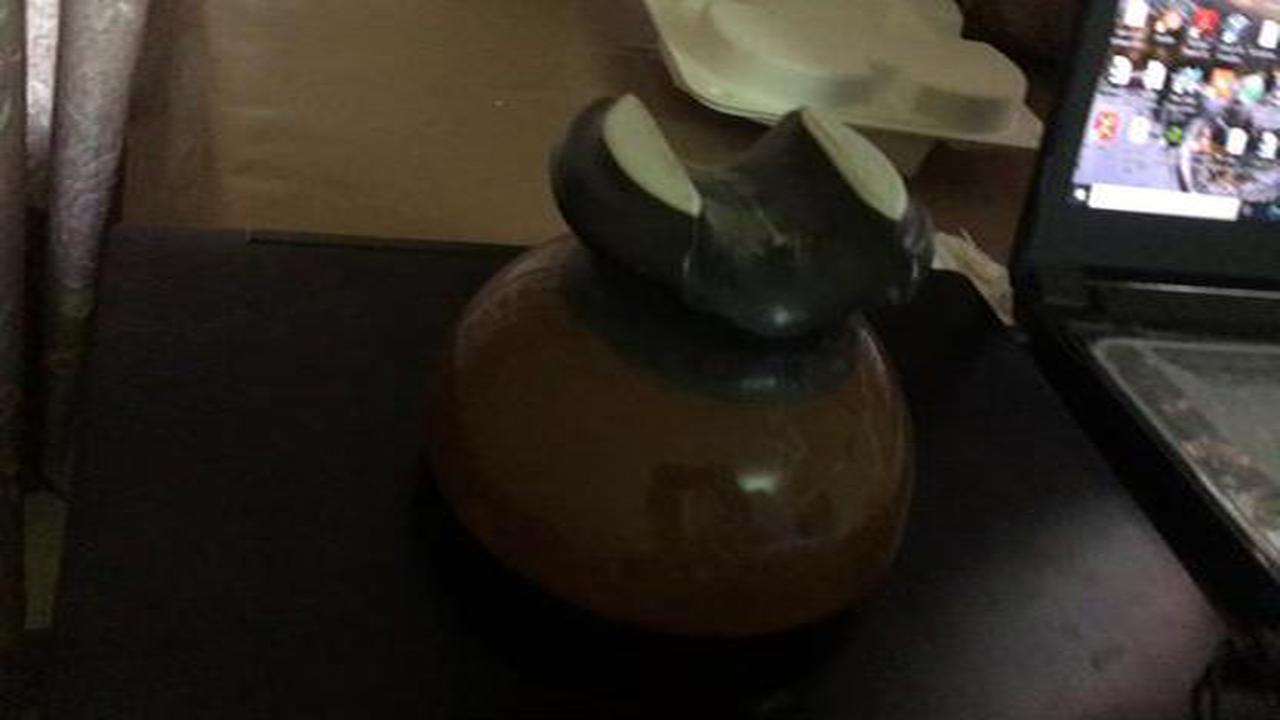insulator_pin: (388, 70, 979, 662)
